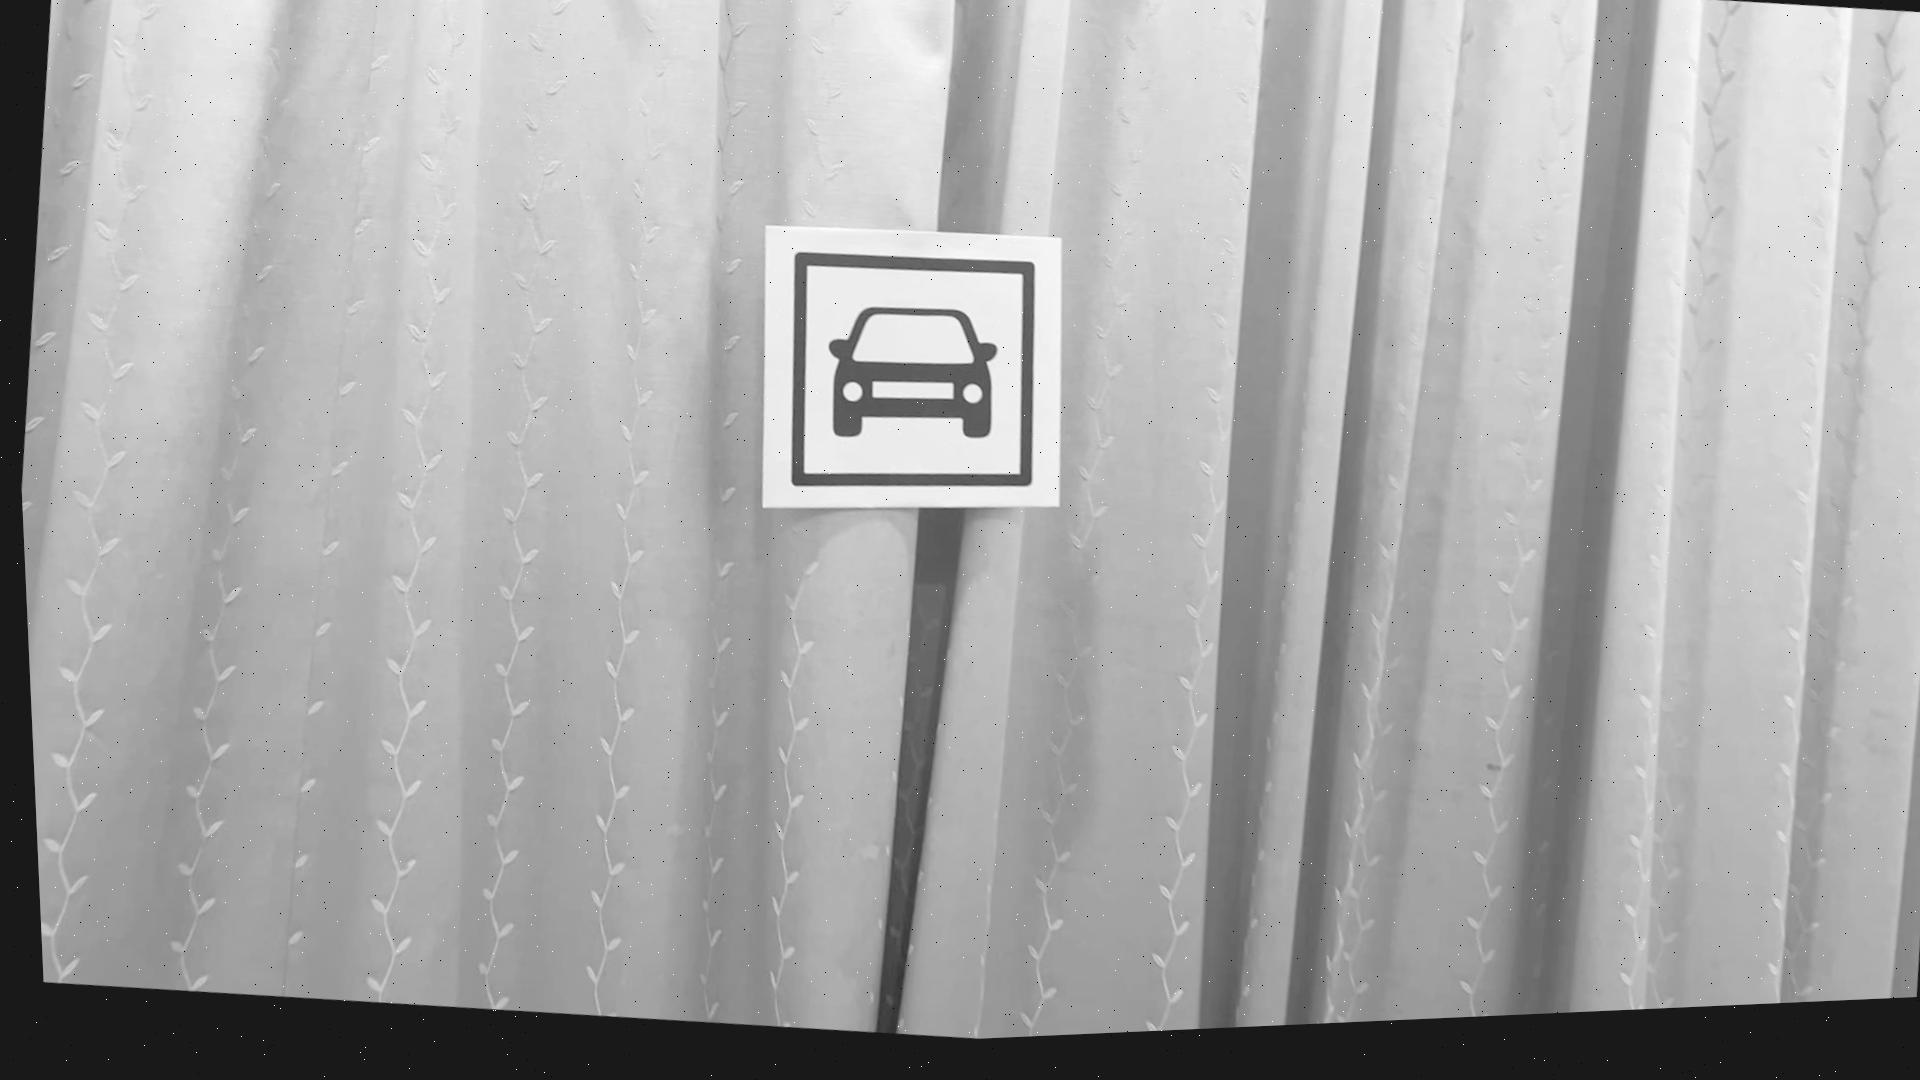car_img: (762, 237, 1055, 526)
